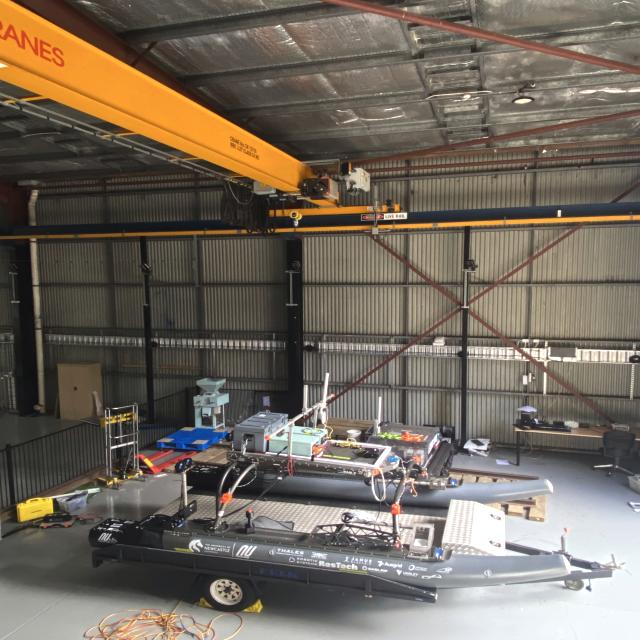matrix: (261, 395, 272, 407)
